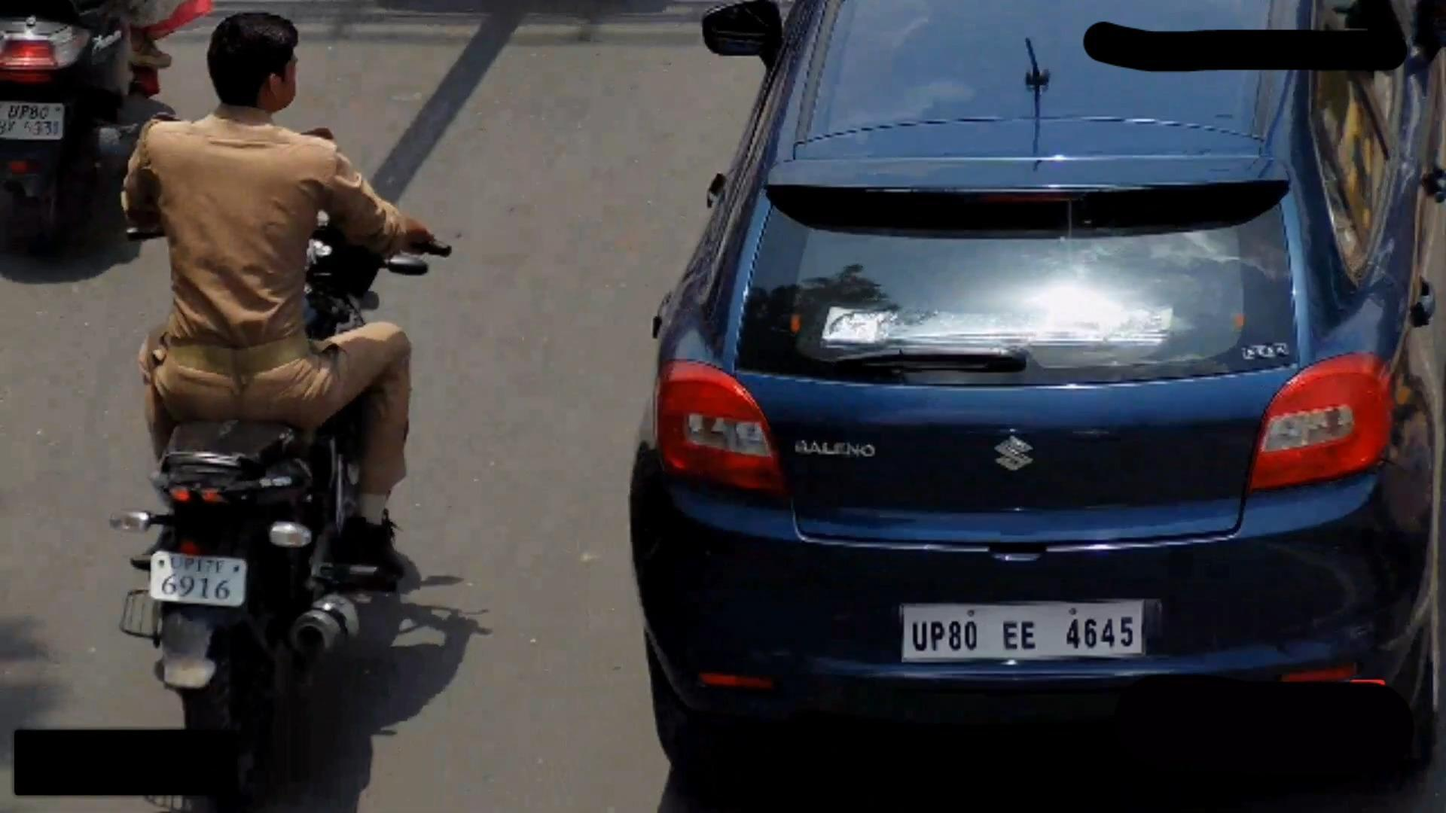bike: (116, 179, 462, 741), (3, 0, 186, 249)
no-helmet: (203, 3, 315, 123)
number-plate: (145, 551, 246, 606), (3, 101, 66, 143)
rider: (122, 5, 427, 586)
